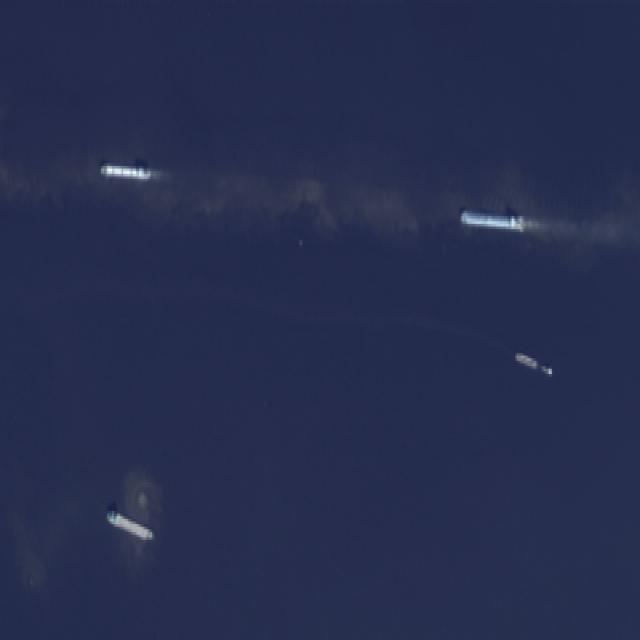boat: (105, 506, 154, 537), (459, 208, 522, 229), (100, 160, 150, 177), (514, 351, 536, 364), (541, 364, 552, 372), (298, 237, 300, 242)
